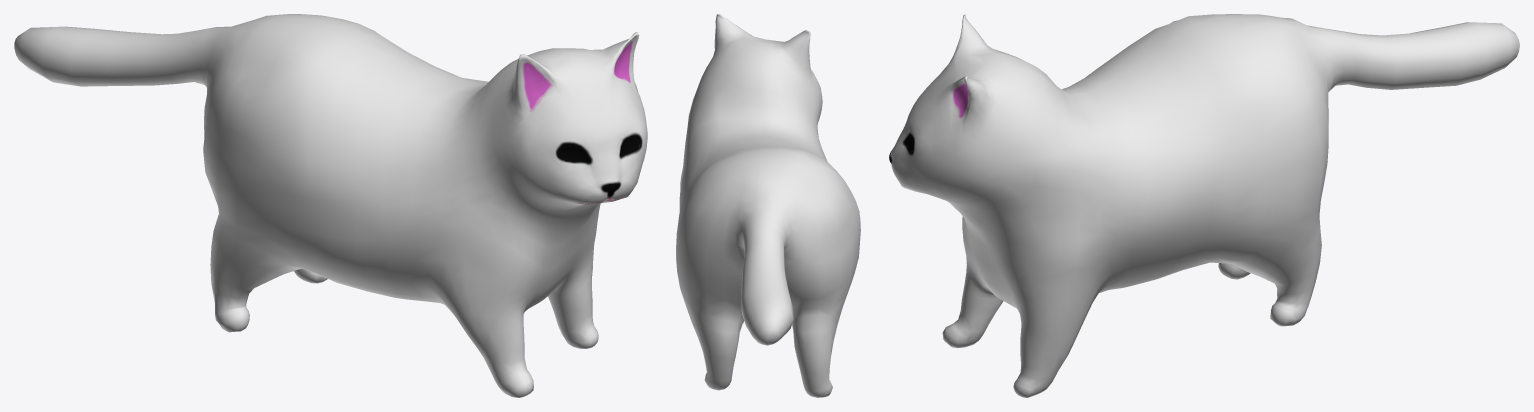
File: cat.fbx
3 views of the same model, side by side, from view 1: azimuth 30°, elevation 25°; view 2: azimuth 150°, elevation 25°; view 3: azimuth 270°, elevation 25° (orthographic). The views are drawn at different scales.
Visible parts, largest first — view 1: Cat; view 2: Cat; view 3: Cat.
Boxes of the visible parts, left/top/right/bottom form: Cat: left=14, top=14, right=647, bottom=397; Cat: left=676, top=14, right=860, bottom=397; Cat: left=889, top=14, right=1519, bottom=397.
Size of the model in its own units: 42.75 by 38.59 by 65.66.
Materials: 1 (1 with a texture image).
